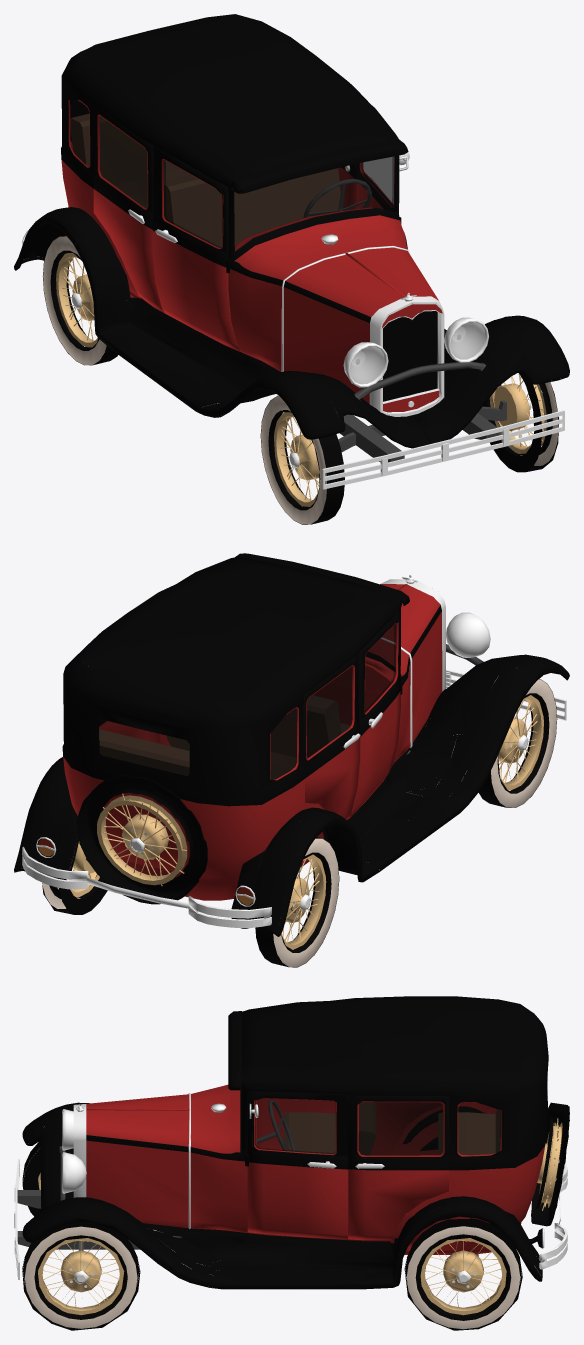
The model's file is forda.glb.
The picture shows the model from 3 angles, top to bottom: view 1: azimuth 30°, elevation 25°; view 2: azimuth 150°, elevation 25°; view 3: azimuth 270°, elevation 25°; orthographic projection. The views are drawn at different scales.
Parts seen in each view (by area): view 1: Modell, Tuer_R, Vorn_R, Hinten_R, Vorn_L, Tuer_L; view 2: Modell, Tuer_R, Hinten_R, Vorn_R, Hinten_L; view 3: Modell, Tuer_L, Hinten_L, Vorn_L, Tuer_R, Vorn_R.
Boxes of the visible parts, box(x1,y1,x2,y2) form: Modell: box(14, 14, 569, 489); Tuer_R: box(152, 146, 239, 350); Vorn_R: box(260, 395, 344, 524); Hinten_R: box(42, 235, 117, 365); Vorn_L: box(483, 357, 558, 472); Tuer_L: box(356, 152, 409, 215); Modell: box(14, 553, 569, 936); Tuer_R: box(348, 609, 400, 818); Hinten_R: box(255, 837, 339, 967); Vorn_R: box(478, 679, 557, 807); Hinten_L: box(42, 841, 107, 914); Modell: box(14, 996, 569, 1289); Tuer_L: box(247, 1090, 348, 1239); Hinten_L: box(404, 1218, 522, 1330); Vorn_L: box(22, 1221, 140, 1330); Tuer_R: box(257, 1098, 335, 1150); Vorn_R: box(22, 1141, 41, 1216).
Size of the model in its own units: 1.91 by 1.95 by 3.95.
